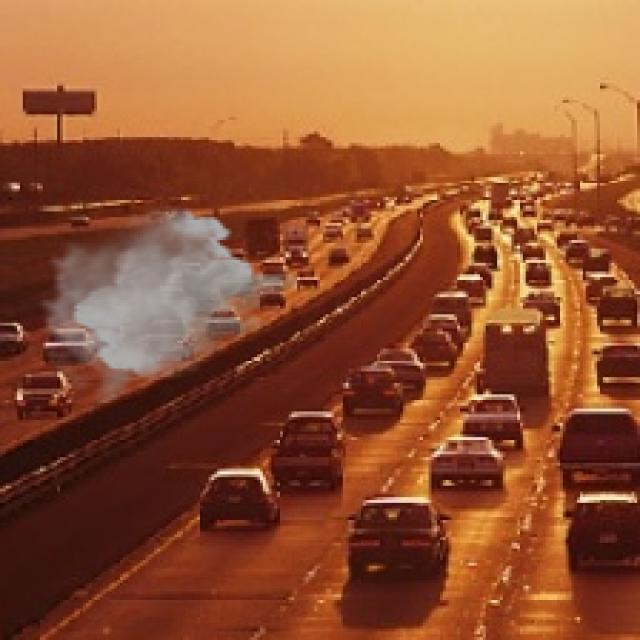smoke: (37, 206, 306, 406)
